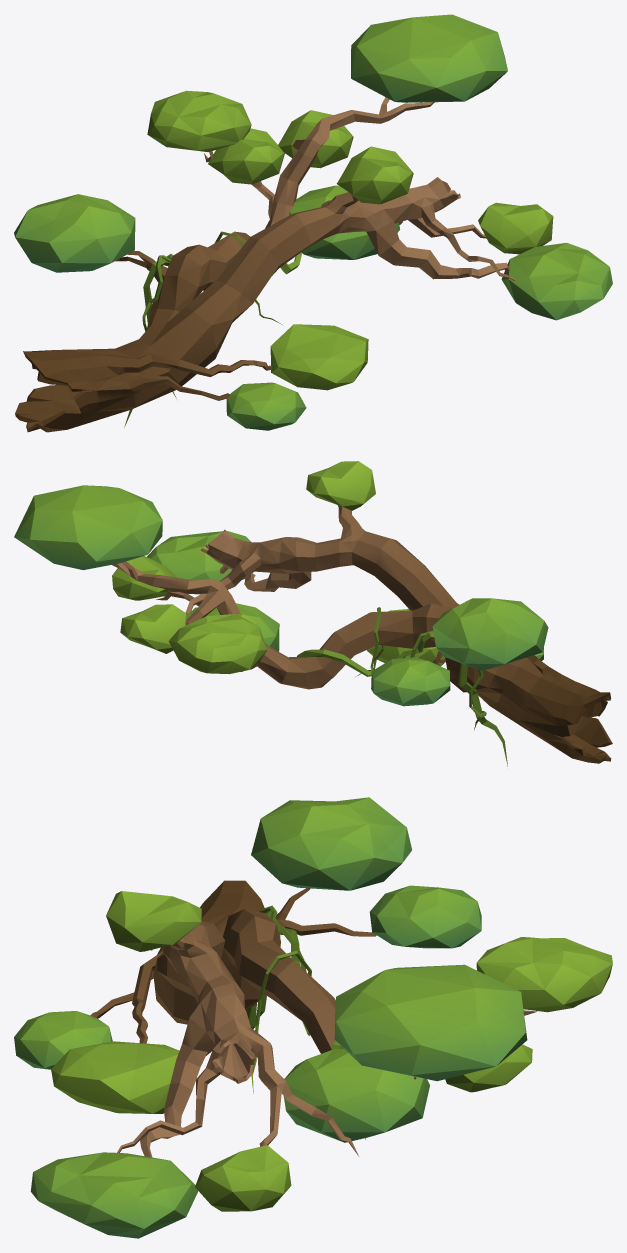
Rendered from ZLP_Plant_B_8.FBX.
The picture shows the model from 3 angles, top to bottom: view 1: azimuth 30°, elevation 25°; view 2: azimuth 150°, elevation 25°; view 3: azimuth 270°, elevation 25°; orthographic projection. The views are drawn at different scales.
Parts seen in each view (by area): view 1: ZLP_Plant_B_8; view 2: ZLP_Plant_B_8; view 3: ZLP_Plant_B_8.
Part boxes in pixels (x1,y1,x2,y2): ZLP_Plant_B_8: (14, 14, 612, 432); ZLP_Plant_B_8: (14, 461, 612, 766); ZLP_Plant_B_8: (14, 797, 612, 1238).
Bounding box in the file's own units: 1506 × 657 × 1117.
